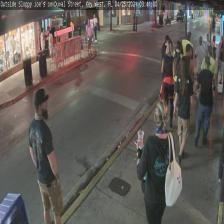person: (136, 100, 176, 224), (192, 55, 216, 146), (174, 57, 194, 163), (161, 39, 176, 129), (200, 46, 217, 119)
